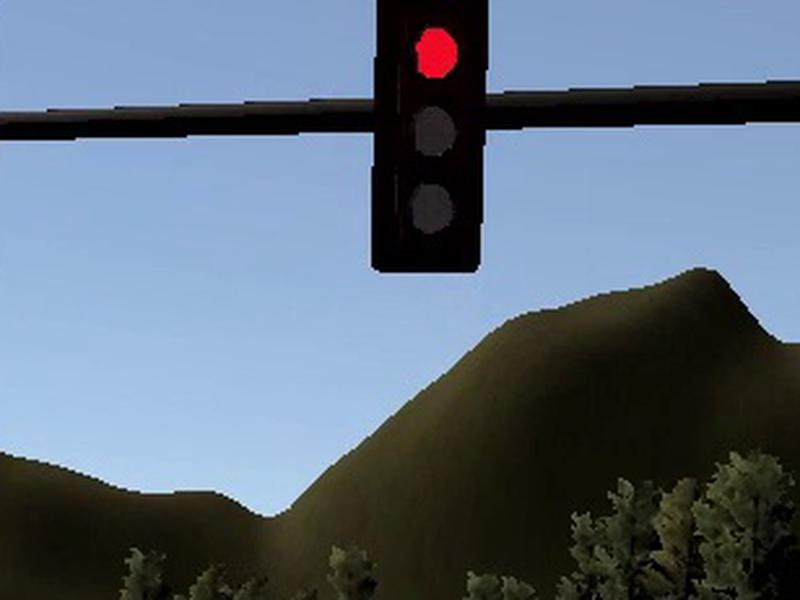Red: (381, 1, 481, 273)
